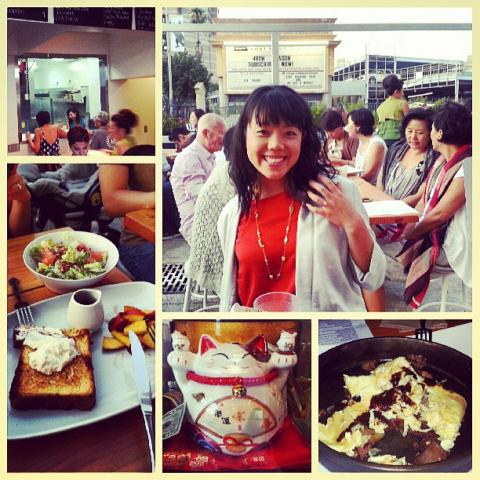car: (368, 68, 402, 84)
